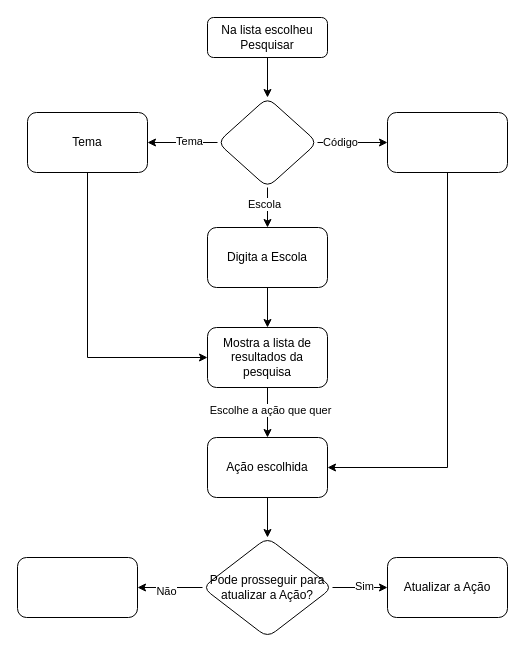
The diagram is 525 pixels wide and 655 high, and some of its shapes have lost their labels. Here are the shapes that lost their labels. From the top down, the centre of each, then its label:
point 267,142: O que vai pesquisar
point 447,142: Digita o código da Ação
point 77,587: Voltar para o Menu
